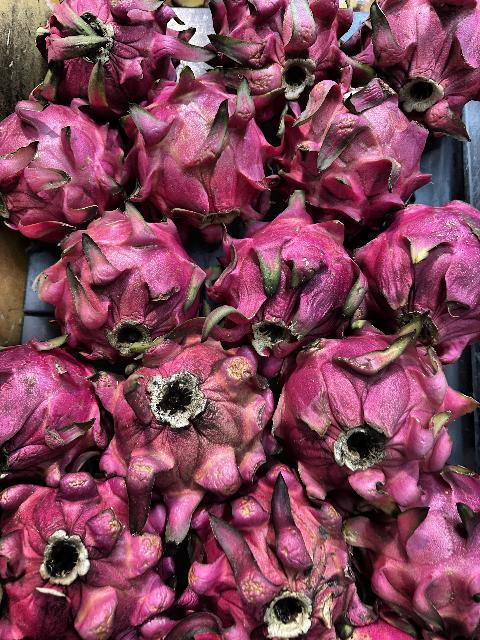buah-naga-belum-matang: (103, 334, 265, 500)
buah-naga-matang: (172, 478, 370, 638), (273, 326, 455, 492), (7, 480, 174, 640), (117, 74, 270, 228), (285, 76, 433, 234), (213, 212, 373, 350), (41, 216, 199, 348), (356, 468, 480, 634), (366, 186, 480, 354), (186, 0, 352, 108), (356, 0, 480, 134), (0, 92, 122, 228), (33, 0, 185, 100), (0, 336, 98, 480)
